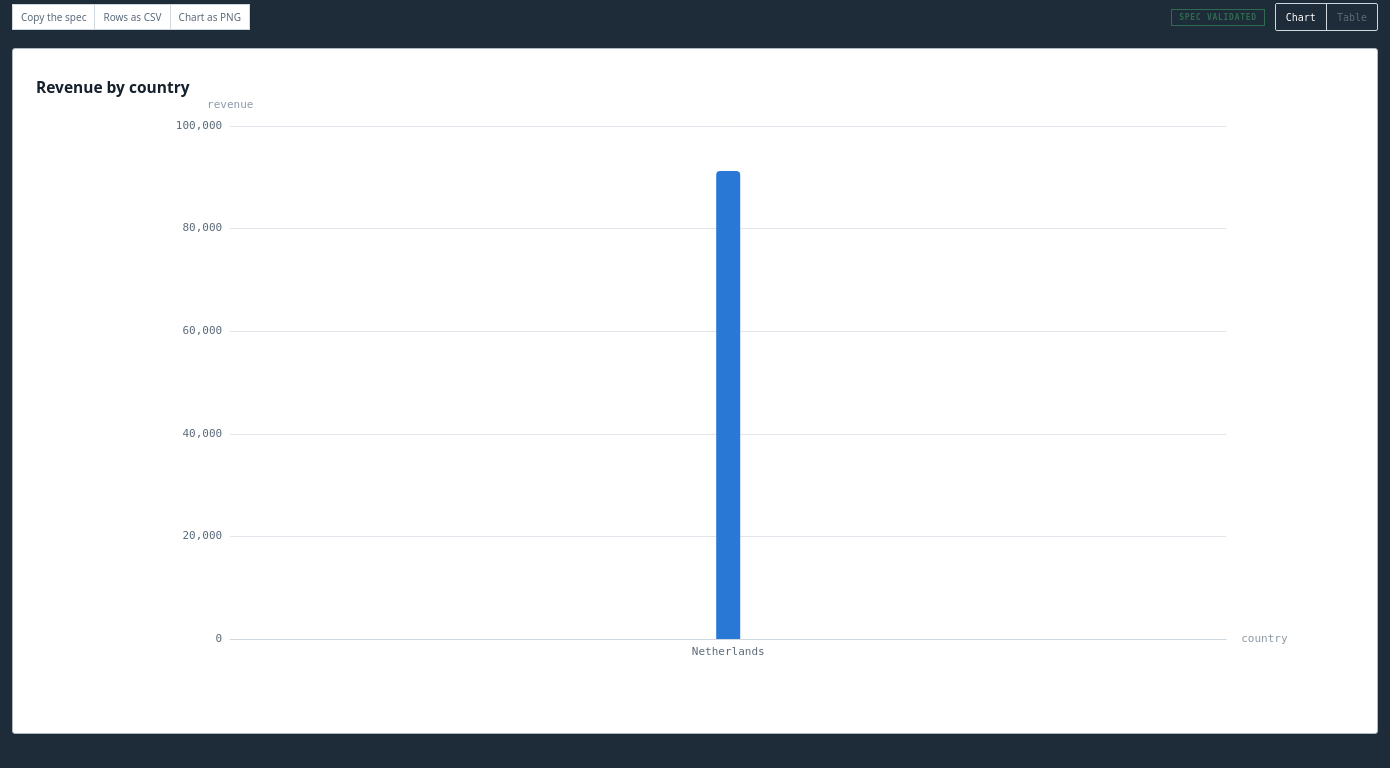
Test: getting a chart out of the tab › says it could not, where the browser refuses the clipboard
Click the button "Copy the spec" at (54, 17), box [12,4,95,30]
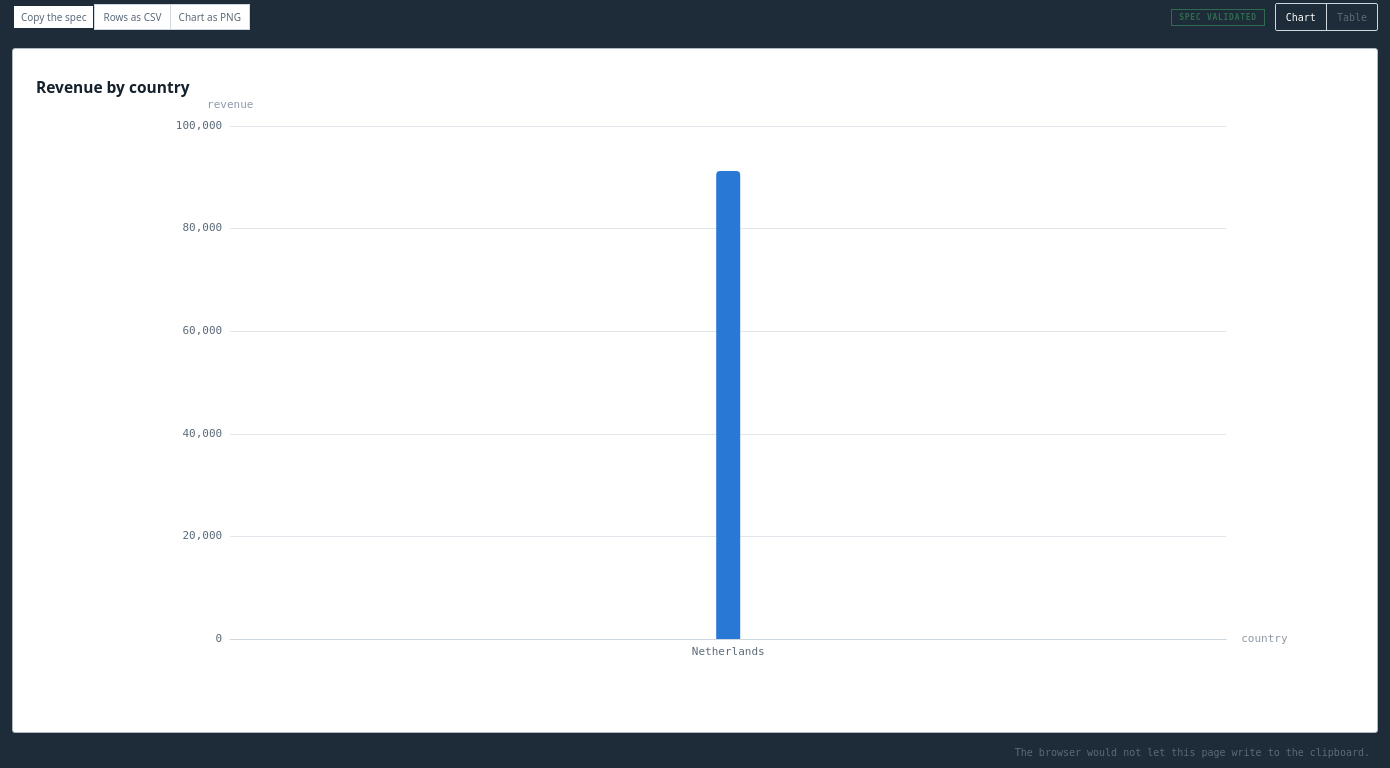
Now the text "The browser would not let this page write to the clipboard." is shown, box [1015,747,1370,758]
